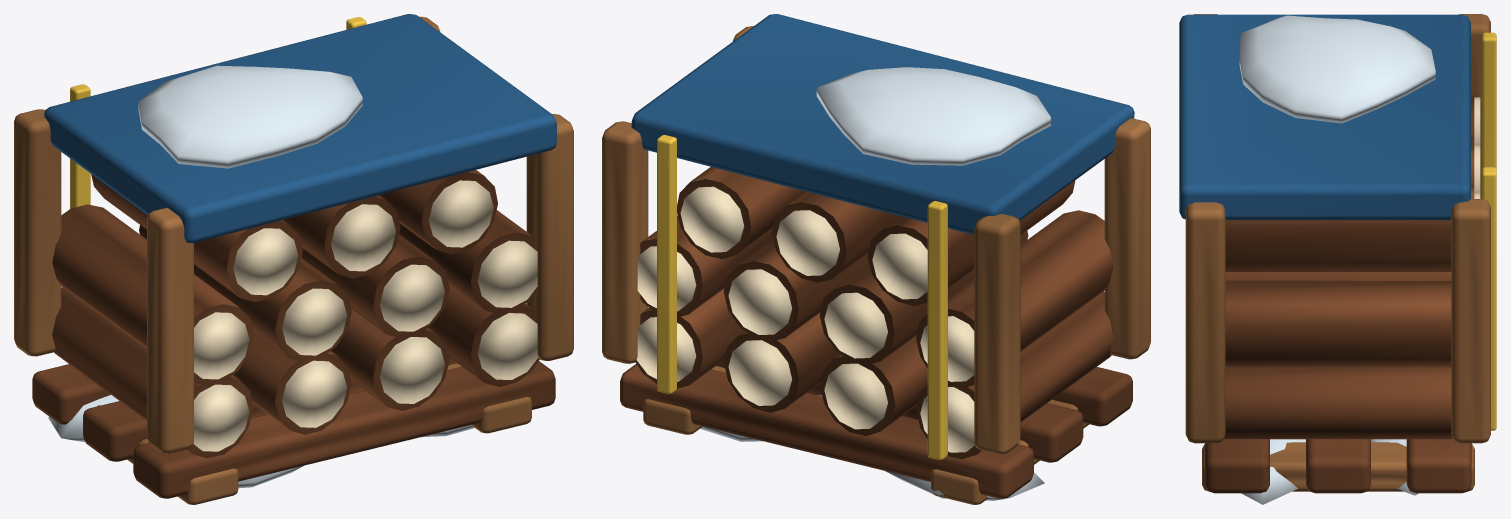
File: wood_stack.glb
The picture shows the model from 3 angles, left to right: view 1: azimuth 30°, elevation 25°; view 2: azimuth 150°, elevation 25°; view 3: azimuth 270°, elevation 25°; orthographic projection.
Parts seen in each view (by area): view 1: wood_stack; view 2: wood_stack; view 3: wood_stack.
Part boxes in pixels (x1,y1,x2,y2): wood_stack: (14, 14, 573, 504); wood_stack: (602, 14, 1150, 504); wood_stack: (1179, 14, 1496, 504).
Size of the model in its own units: 1.44 by 1.18 by 0.9575.
